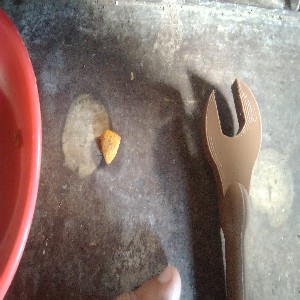spanner: (204, 78, 262, 300)
